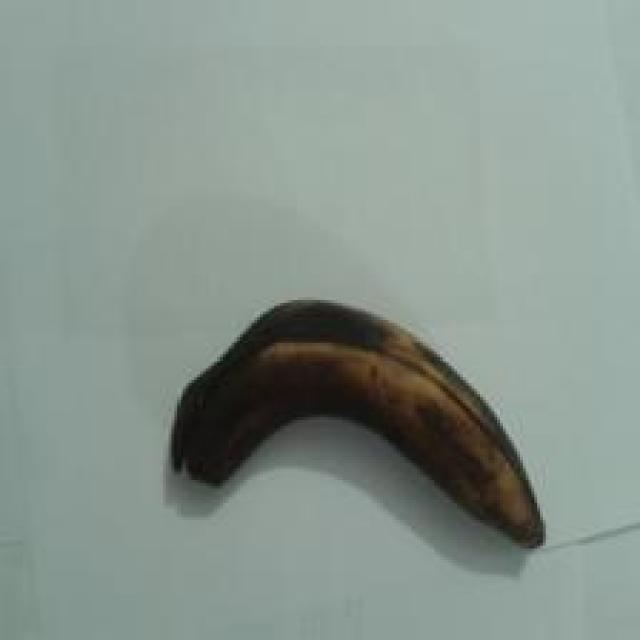Rotten_Banana: (168, 297, 580, 543)
